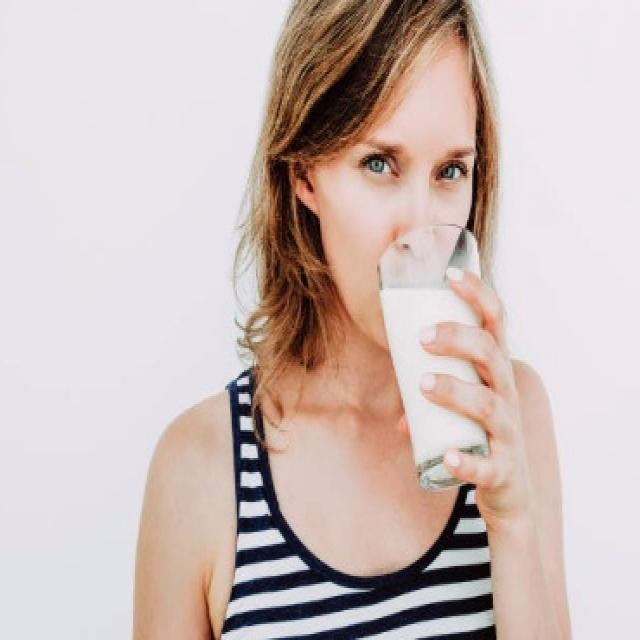adult: (125, 0, 573, 640)
